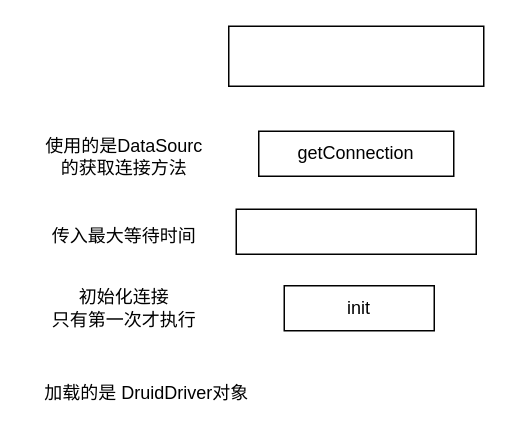
This 510x443 diagram has some shape labels left out. Each missing label, with the box of its shape:
DruidDataSource: (227, 25, 484, 86)
getConnection(waitTime): (235, 208, 476, 254)
